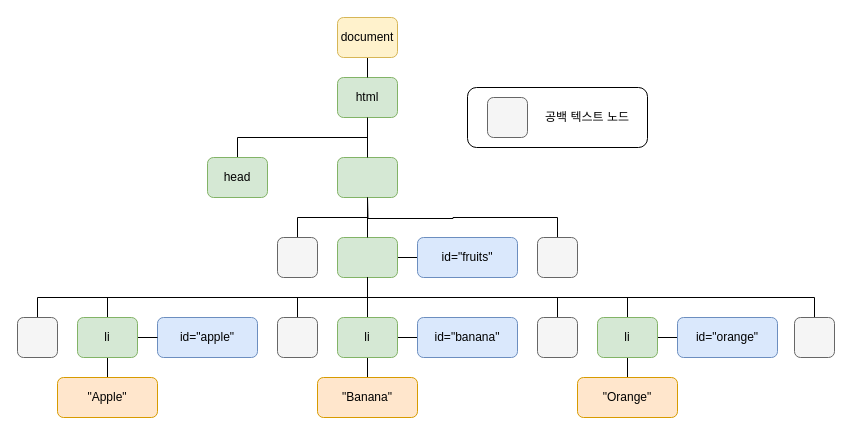
Some shapes in this 852 by 435 pixel diagram are drawn without their labels. The box of each missing label's shape, as (x1, y1, x2, y2) in pixels:
body: (336, 156, 398, 198)
ul: (336, 236, 398, 278)
